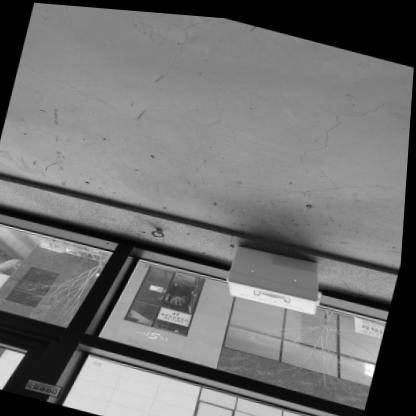DDL: (222, 234, 336, 312)
